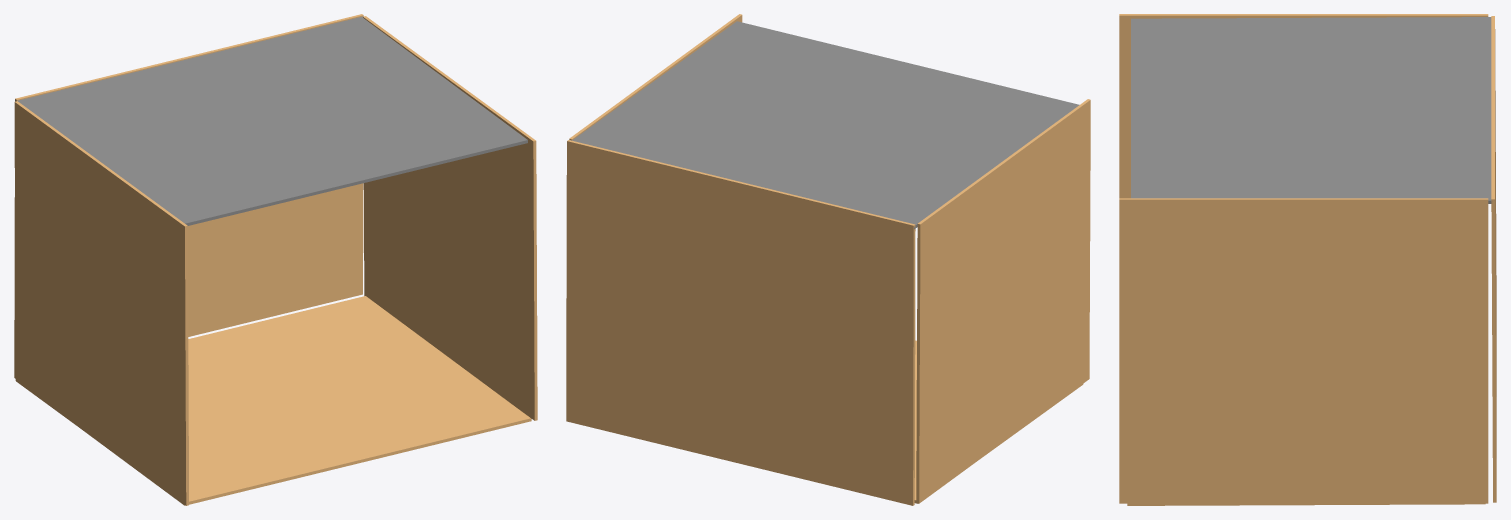
Rendered from cardboard-box_broken.fbx.
3 views of the same model, side by side, from view 1: azimuth 30°, elevation 25°; view 2: azimuth 150°, elevation 25°; view 3: azimuth 270°, elevation 25° (orthographic). The views are drawn at different scales.
Visible parts, largest first — view 1: cardboard_side005, cardboard_side003, cardboard_side004, cardboard_side002, cardboard_side001; view 2: cardboard_side001, cardboard_side005, cardboard_side003, cardboard_side002; view 3: cardboard_side002, cardboard_side005, cardboard_side003, cardboard_side001, cardboard_side004.
Boxes of the visible parts, left/top/right/bottom form: cardboard_side005: left=15, top=16, right=527, bottom=225; cardboard_side003: left=14, top=101, right=188, bottom=505; cardboard_side004: left=92, top=296, right=531, bottom=505; cardboard_side002: left=363, top=16, right=537, bottom=420; cardboard_side001: left=14, top=14, right=363, bottom=378; cardboard_side001: left=566, top=140, right=915, bottom=505; cardboard_side005: left=570, top=21, right=1079, bottom=229; cardboard_side003: left=916, top=99, right=1090, bottom=503; cardboard_side002: left=569, top=14, right=742, bottom=140; cardboard_side002: left=1119, top=198, right=1488, bottom=503; cardboard_side005: left=1131, top=17, right=1492, bottom=203; cardboard_side003: left=1119, top=14, right=1488, bottom=198; cardboard_side001: left=1491, top=16, right=1496, bottom=502; cardboard_side004: left=1127, top=503, right=1485, bottom=505.
Bounding box in the file's own units: 60.23 × 46.18 × 51.52.
Materials: 2 (1 with a texture image).
